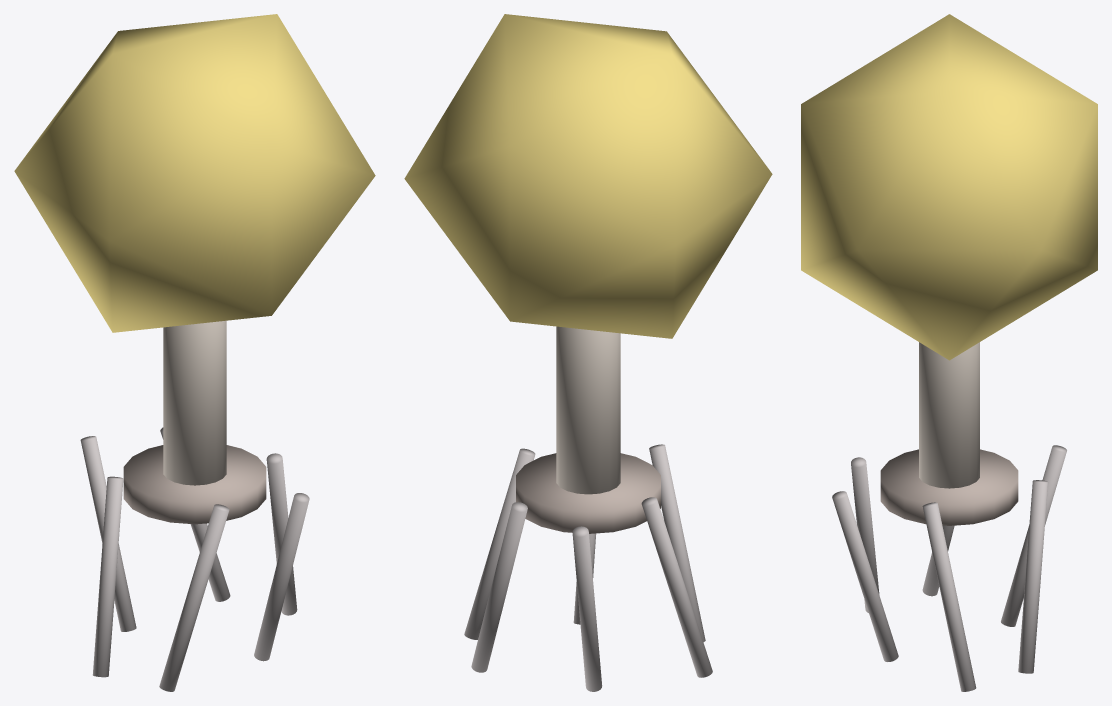
The model's file is virus.glb.
3 renders of one model, left to right at view 1: azimuth 30°, elevation 25°; view 2: azimuth 150°, elevation 25°; view 3: azimuth 270°, elevation 25°, orthographic. The views are drawn at different scales.
Visible parts, largest first — view 1: head, sheath, base, fiber_3.14, fiber_2.1, fiber_1.05, fiber_4.2, fiber_0, fiber_5.24; view 2: head, sheath, base, fiber_3.14, fiber_5.24, fiber_4.2, fiber_2.1, fiber_0; view 3: head, sheath, base, fiber_5.24, fiber_0, fiber_1.05, fiber_4.2, fiber_2.1, fiber_3.14.
Boxes of the visible parts, x1,y1,x2,y2 form: head: (14, 14, 375, 332); sheath: (163, 320, 226, 485); base: (123, 445, 266, 524); fiber_3.14: (92, 476, 123, 677); fiber_2.1: (159, 504, 229, 691); fiber_1.05: (254, 493, 309, 661); fiber_4.2: (80, 436, 136, 631); fiber_0: (266, 453, 297, 615); fiber_5.24: (160, 427, 230, 601); head: (404, 14, 772, 338); sheath: (556, 326, 620, 494); base: (516, 453, 660, 533); fiber_3.14: (641, 497, 712, 677); fiber_5.24: (471, 502, 527, 672); fiber_4.2: (572, 526, 602, 691); fiber_2.1: (649, 444, 705, 642); fiber_0: (464, 448, 535, 639); head: (801, 14, 1097, 360); sheath: (919, 342, 979, 488); base: (880, 449, 1018, 525); fiber_5.24: (1018, 480, 1048, 673); fiber_0: (922, 502, 976, 691); fiber_1.05: (832, 491, 898, 661); fiber_4.2: (1001, 445, 1066, 626); fiber_2.1: (851, 457, 879, 612); fiber_3.14: (922, 525, 954, 596).
Size of the model in its own units: 0.7656 by 1.68 by 0.7656.
